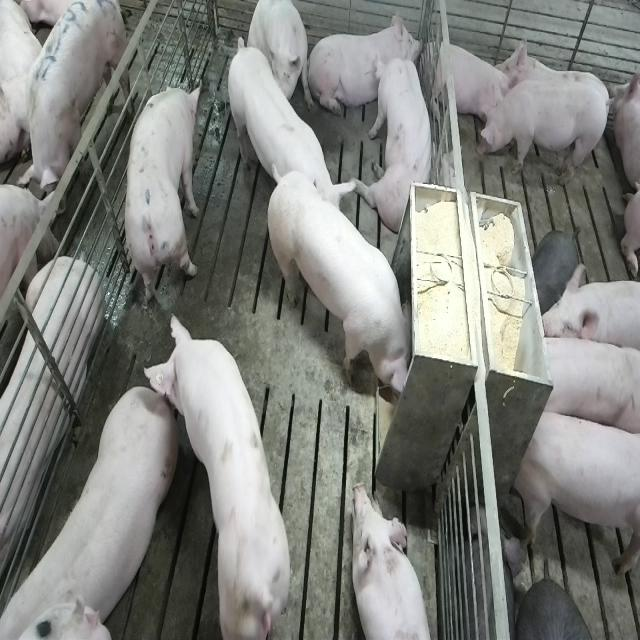Feeding: (271, 172, 421, 402)
Sitting: (358, 57, 438, 232), (246, 0, 308, 109)
Standing: (137, 314, 292, 639), (5, 380, 183, 635), (231, 39, 363, 232), (19, 0, 127, 205), (513, 402, 639, 577), (123, 79, 204, 314), (478, 80, 612, 190), (531, 331, 637, 435), (538, 268, 640, 359)
Sternal_lying: (0, 250, 100, 585), (350, 483, 433, 640), (312, 9, 423, 121), (428, 34, 510, 133)
